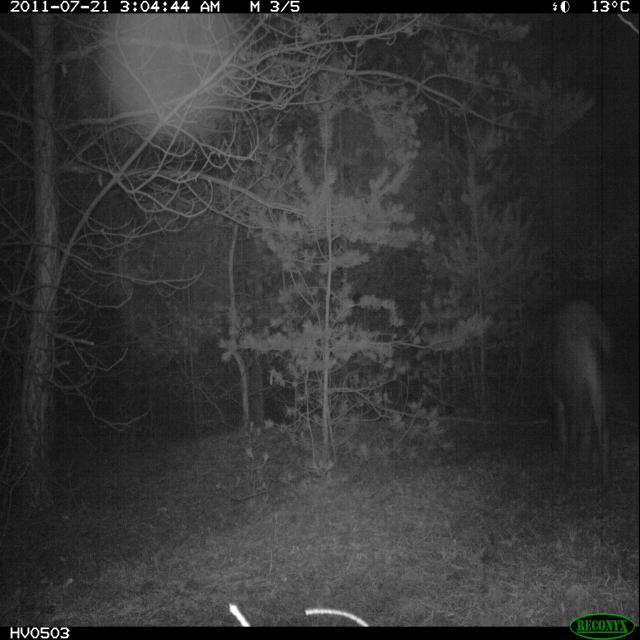boar: (531, 262, 635, 486)
